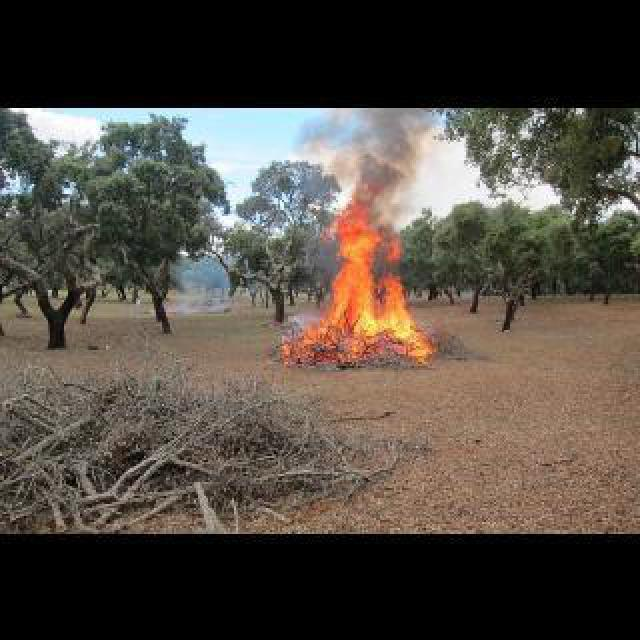Fire: (282, 206, 432, 360)
Smoke: (304, 108, 444, 228)
